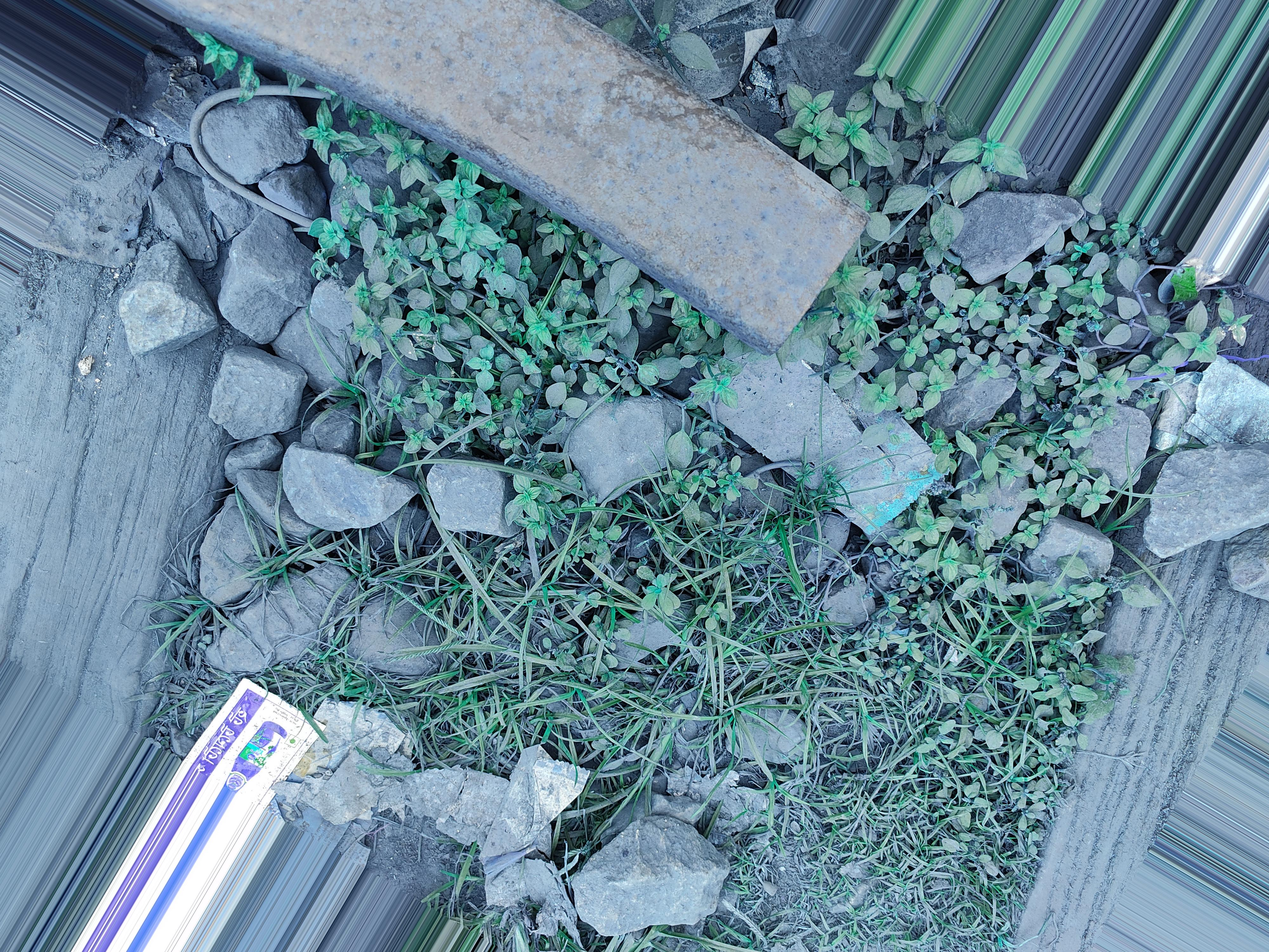tracks_fault: (700, 146, 1198, 542)
